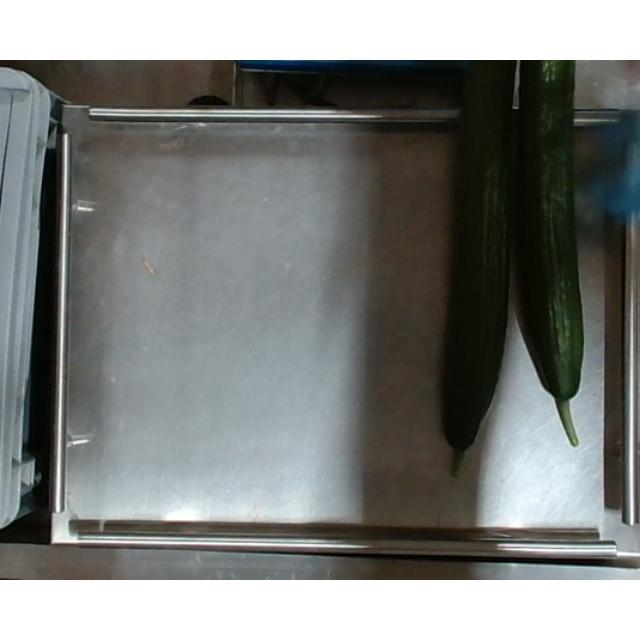cucumber: (437, 60, 515, 482), (518, 60, 586, 452)
